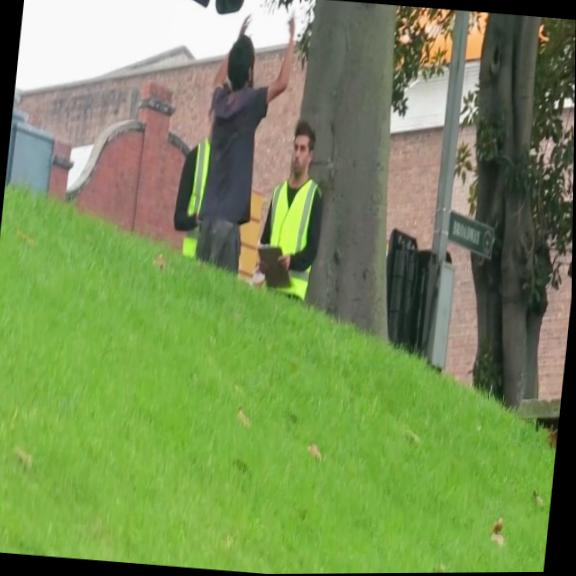safety_vest: (262, 177, 322, 301), (182, 138, 210, 257)
